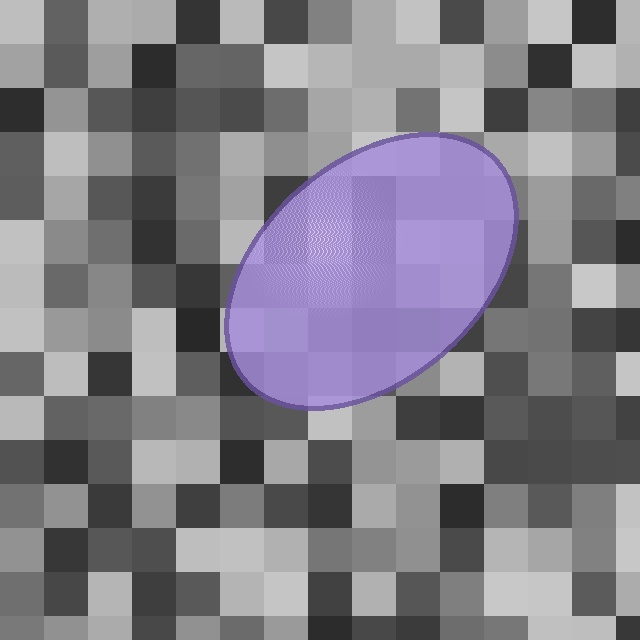lens: (226, 135, 516, 407)
